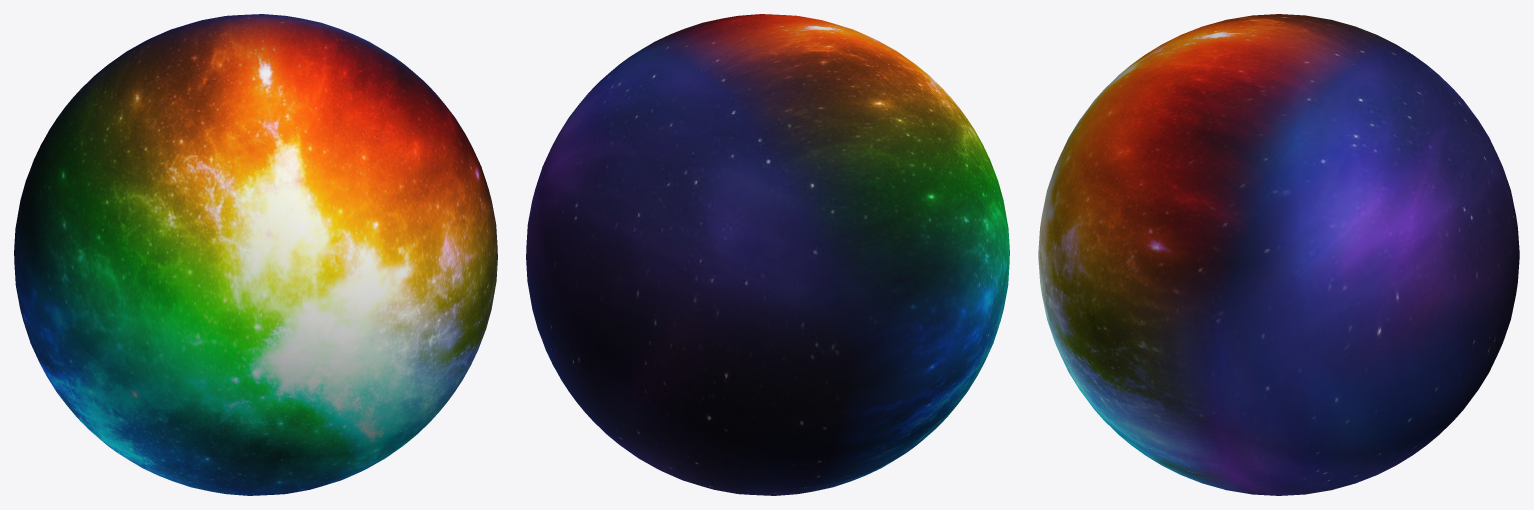
File: rainbow_galaxy_nebula_ball.glb
3 views of the same model, side by side, from view 1: azimuth 30°, elevation 25°; view 2: azimuth 150°, elevation 25°; view 3: azimuth 270°, elevation 25° (orthographic).
Parts seen in each view (by area): view 1: Object_5; view 2: Object_5; view 3: Object_5.
Boxes of the visible parts, <box> form: Object_5: <box>14,14,497,495</box>; Object_5: <box>526,14,1009,495</box>; Object_5: <box>1038,14,1519,495</box>.
Bounding box in the file's own units: 0.2649 × 0.2633 × 0.2633.
Materials: 1 (1 with a texture image).
